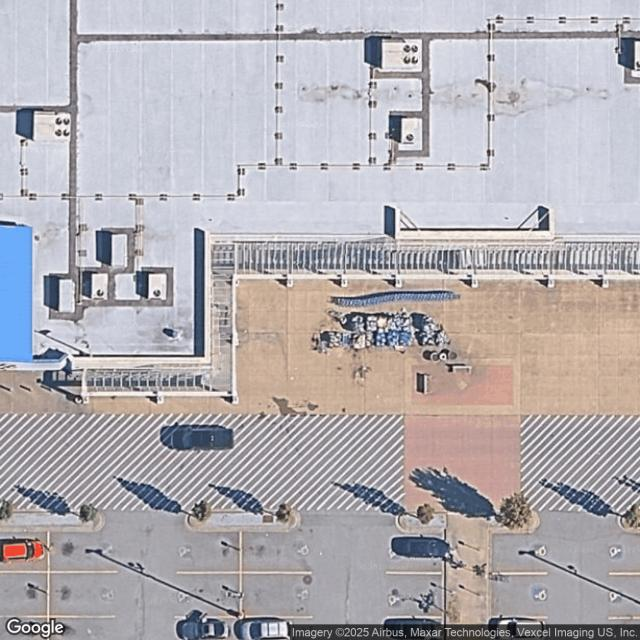car: (175, 430, 236, 451), (386, 620, 445, 640), (496, 618, 549, 639), (240, 619, 291, 639), (180, 619, 230, 639), (394, 537, 445, 556), (2, 540, 43, 563)
lot_boundary: (0, 278, 639, 639)
